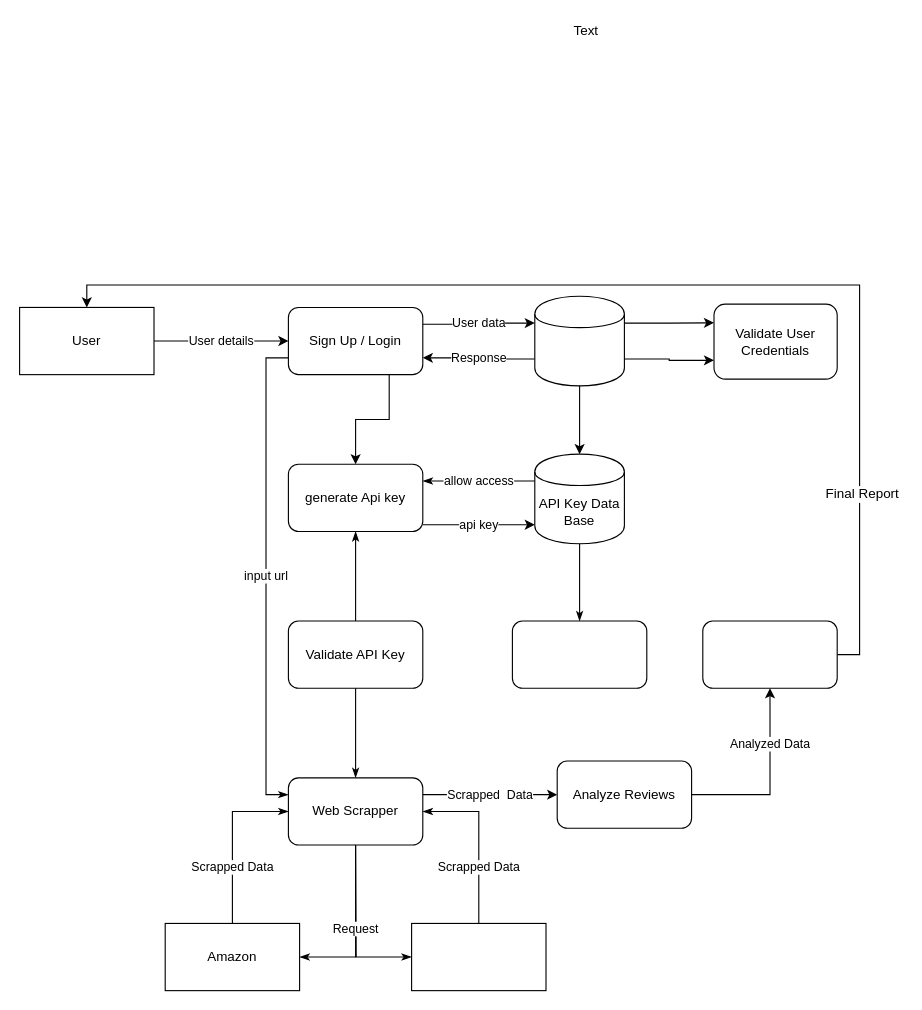
The diagram is 922 pixels wide and 1010 high, and some of its shapes have lost their labels. The shapes that lost their labels are listed below. From the top down, each one's centre as x and y in pixels, then its label:
At (x=579, y=340): "User Data Base".
At (x=579, y=654): "Track API Usage".
At (x=769, y=654): "Generate Report".
At (x=478, y=956): "Flipkart".
